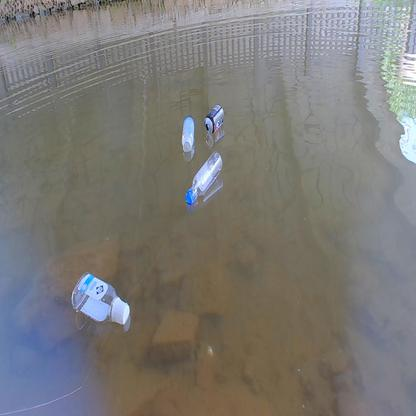can: (204, 103, 223, 134)
plastic bottle: (72, 273, 130, 326), (182, 151, 223, 203), (181, 115, 195, 153)
